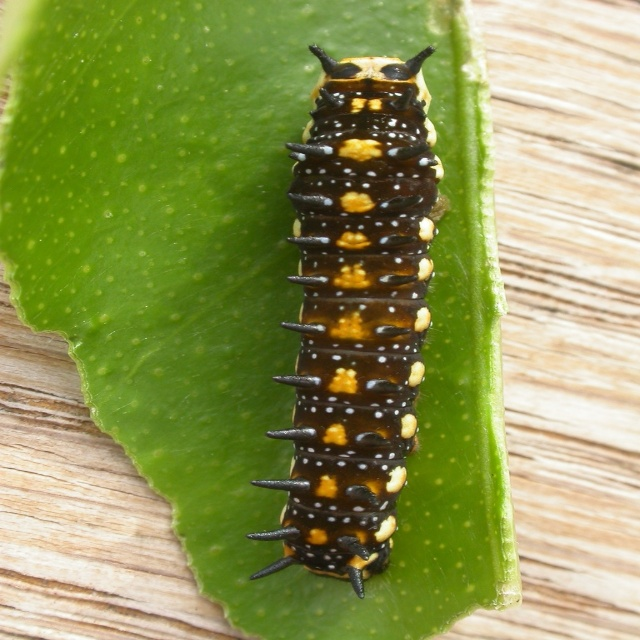Caterpillar: (244, 41, 444, 601)
